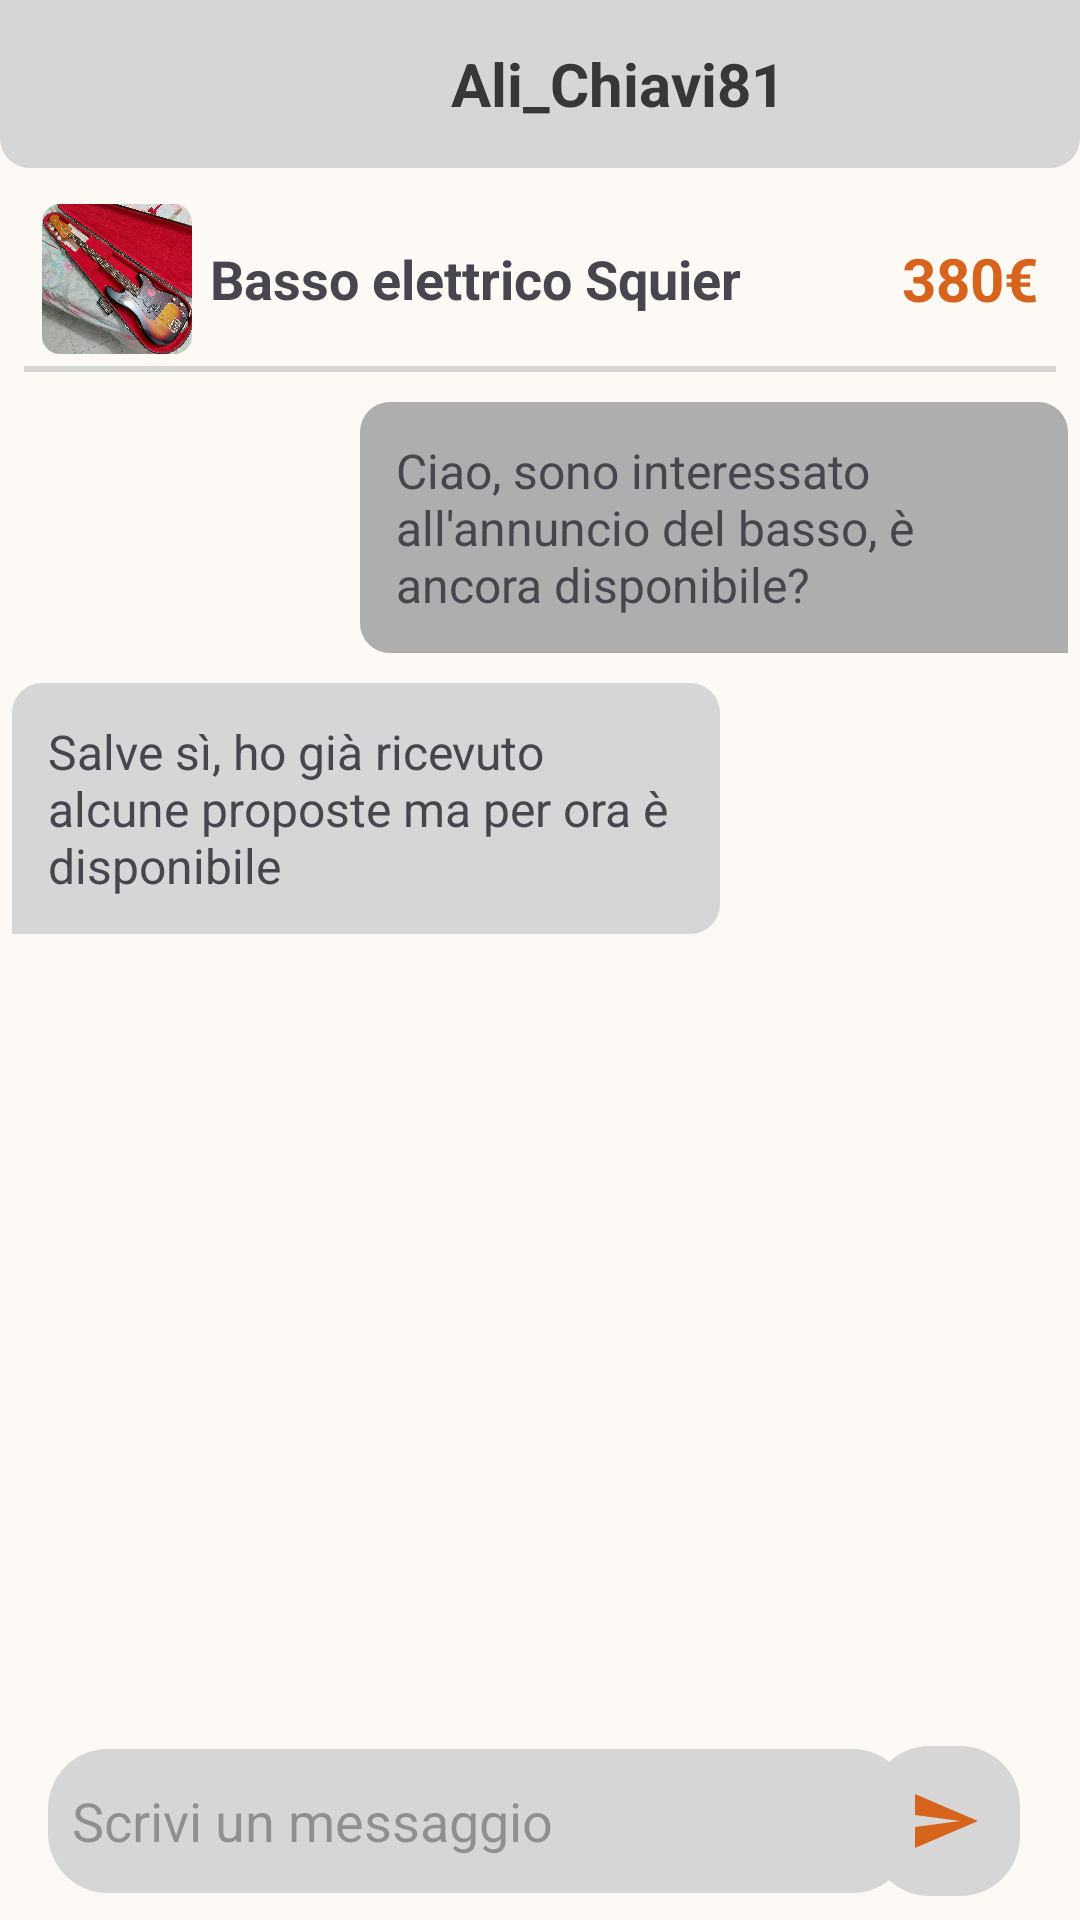

Where to tap for icons on this 1080x1920 app screen, as [x,y]:
send: [945,1821]
